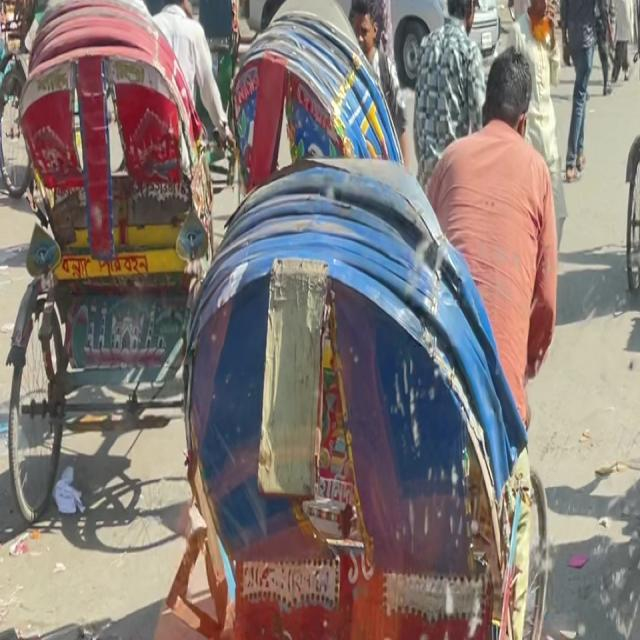car: (410, 114, 572, 413)
